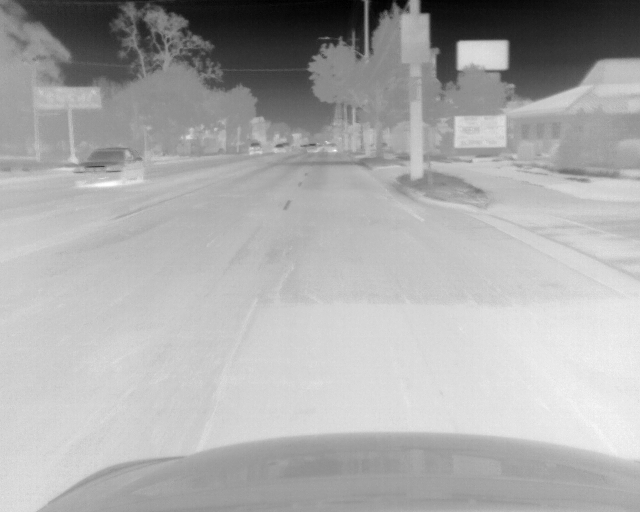car: (76, 147, 146, 189), (248, 141, 262, 157), (324, 143, 338, 154), (273, 143, 285, 155), (305, 142, 317, 153)
